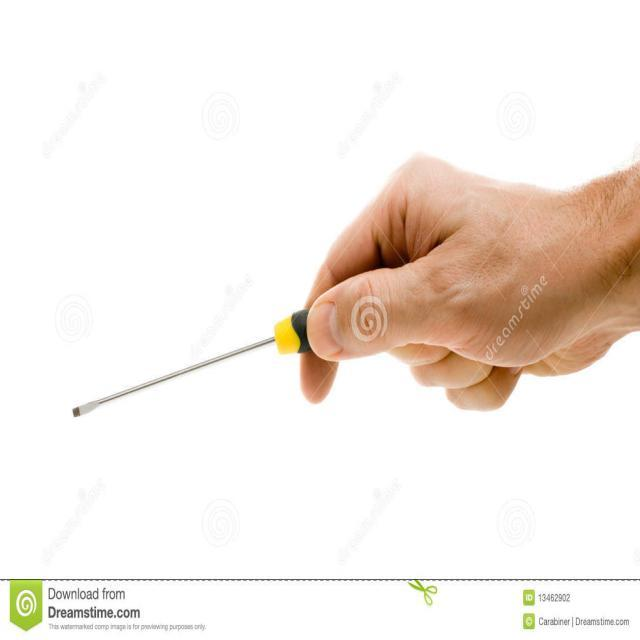screwdriver: (70, 299, 320, 431)
